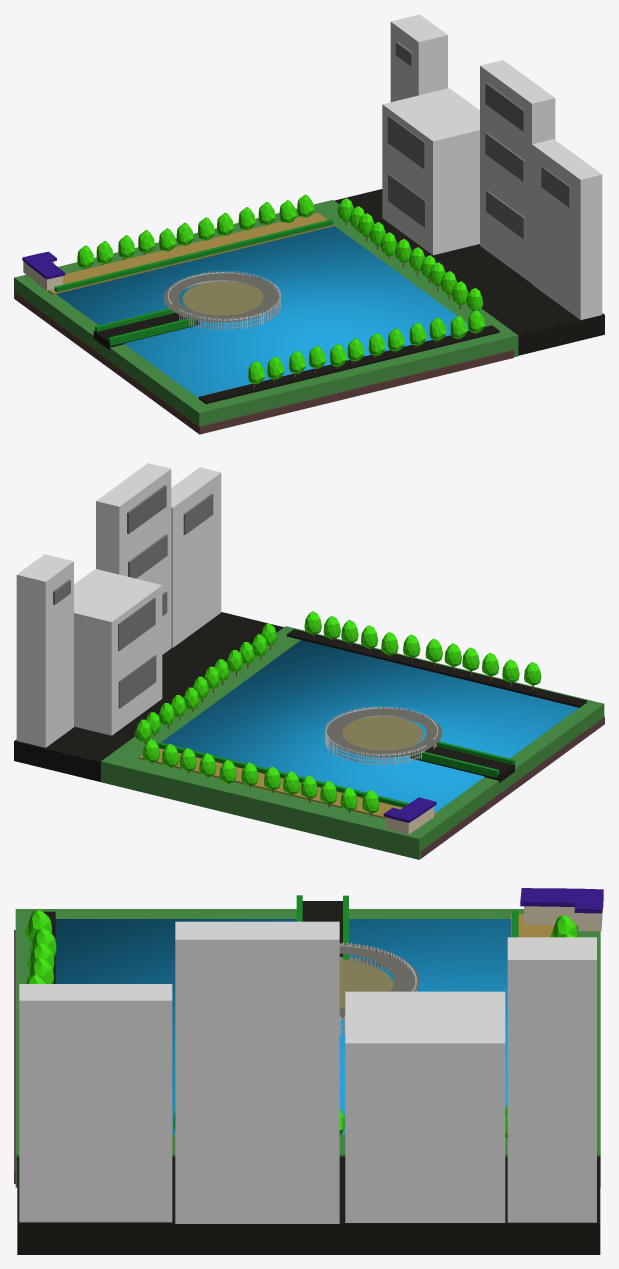
The model's file is ben_01.glb.
The picture shows the model from 3 angles, top to bottom: view 1: azimuth 30°, elevation 25°; view 2: azimuth 150°, elevation 25°; view 3: azimuth 270°, elevation 25°; orthographic projection. The views are drawn at different scales.
Visible parts, largest first — view 1: ลูกบาศก์.002, ลูกบาศก์.001, Cube.005, Cube.001, Cube.002, Cube, ลูกบาศก์.037, Cube.006, ลูกบาศก์.035, ลูกบาศก์.044, Cylinder.002, Cylinder.014 (+11 smaller); view 2: ลูกบาศก์.002, ลูกบาศก์.001, Cube.005, Cube.006, Cube, Cube.001, Cube.002, ลูกบาศก์.044, Cylinder.002, Cylinder.014, ลูกบาศก์.037, Cube.028 (+11 smaller); view 3: Cube.002, Cube.005, Cube.001, Cube.006, Cube, ลูกบาศก์.002, ลูกบาศก์.001, Cube.004, Cylinder.002, Cylinder.014, Cube.003, ลูกบาศก์.005 (+4 smaller).
Boxes of the visible parts, left/top/right/bottom form: ลูกบาศก์.002: left=57, top=226, right=469, bottom=397; ลูกบาศก์.001: left=14, top=200, right=518, bottom=426; Cube.005: left=382, top=88, right=479, bottom=255; Cube.001: left=532, top=139, right=602, bottom=319; Cube.002: left=480, top=60, right=555, bottom=283; Cube: left=334, top=189, right=604, bottom=355; ลูกบาศก์.037: left=15, top=292, right=513, bottom=434; Cube.006: left=390, top=14, right=447, bottom=101; ลูกบาศก์.035: left=36, top=212, right=334, bottom=294; ลูกบาศก์.044: left=198, top=325, right=499, bottom=404; Cylinder.002: left=182, top=281, right=263, bottom=315; Cylinder.014: left=163, top=273, right=279, bottom=322; ลูกบาศก์.002: left=161, top=640, right=578, bottom=812; ลูกบาศก์.001: left=101, top=626, right=604, bottom=859; Cube.005: left=74, top=569, right=162, bottom=735; Cube.006: left=16, top=554, right=73, bottom=747; Cube: left=14, top=612, right=283, bottom=781; Cube.001: left=171, top=467, right=221, bottom=647; Cube.002: left=96, top=463, right=171, bottom=654; ลูกบาศก์.044: left=286, top=629, right=586, bottom=707; Cylinder.002: left=342, top=716, right=423, bottom=750; Cylinder.014: left=327, top=708, right=442, bottom=757; ลูกบาศก์.037: left=420, top=716, right=604, bottom=858; Cube.028: left=325, top=706, right=438, bottom=765; Cube.002: left=175, top=921, right=339, bottom=1223; Cube.005: left=345, top=991, right=505, bottom=1222; Cube.001: left=19, top=984, right=172, bottom=1222; Cube.006: left=507, top=937, right=596, bottom=1222; Cube: left=17, top=1156, right=600, bottom=1254; ลูกบาศก์.002: left=55, top=919, right=511, bottom=1134; ลูกบาศก์.001: left=15, top=909, right=600, bottom=1187; Cube.004: left=520, top=888, right=603, bottom=913; Cylinder.002: left=339, top=959, right=393, bottom=1008; Cylinder.014: left=339, top=943, right=419, bottom=1018; Cube.003: left=524, top=906, right=602, bottom=931; ลูกบาศก์.005: left=302, top=901, right=342, bottom=956.
Size of the model in its own units: 1753 by 823 by 1398.
